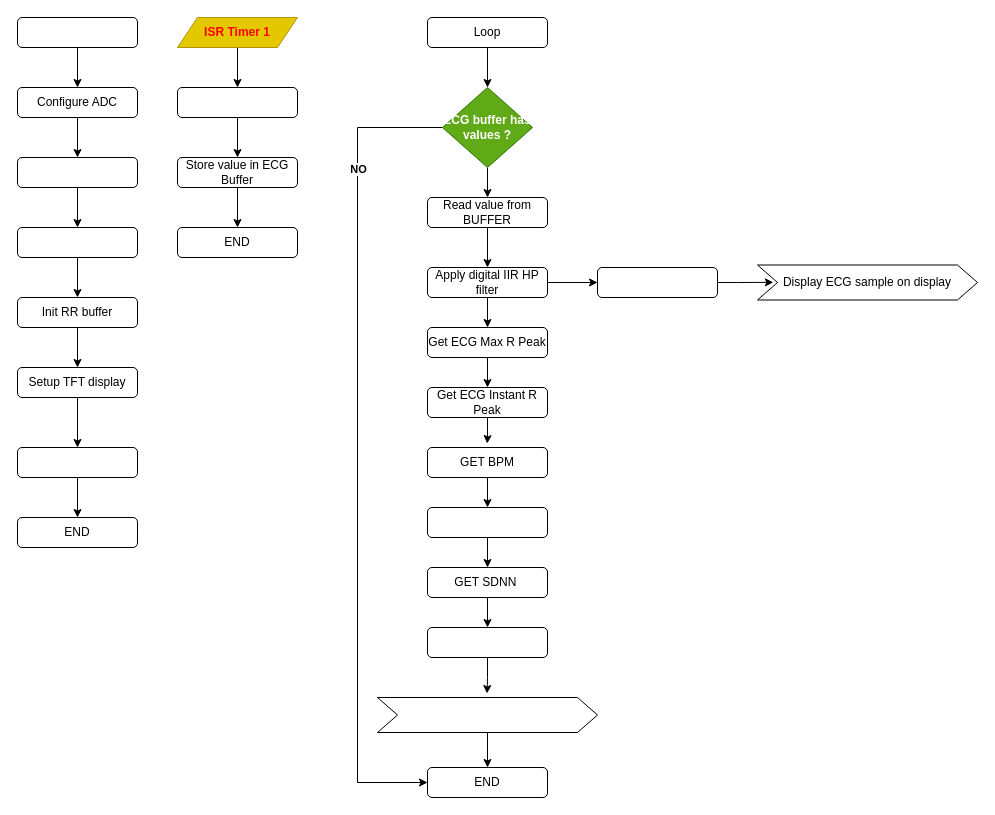
Some shapes in this 995 by 815 pixel diagram are drawn without their labels. Here are the shapes that lost their labels. From the top down, the centre of each, then its label:
the point at 77,32: Setup
the point at 237,102: Read ADC
the point at 77,172: Set TIMER 1 1kHz
the point at 77,242: Init ECG buffer
the point at 657,282: Re-center sample for display
the point at 77,462: Start Serial COM
the point at 487,522: GET QRS Width
the point at 487,642: GET RMSSD
the point at 487,714: Display calc. params on display
